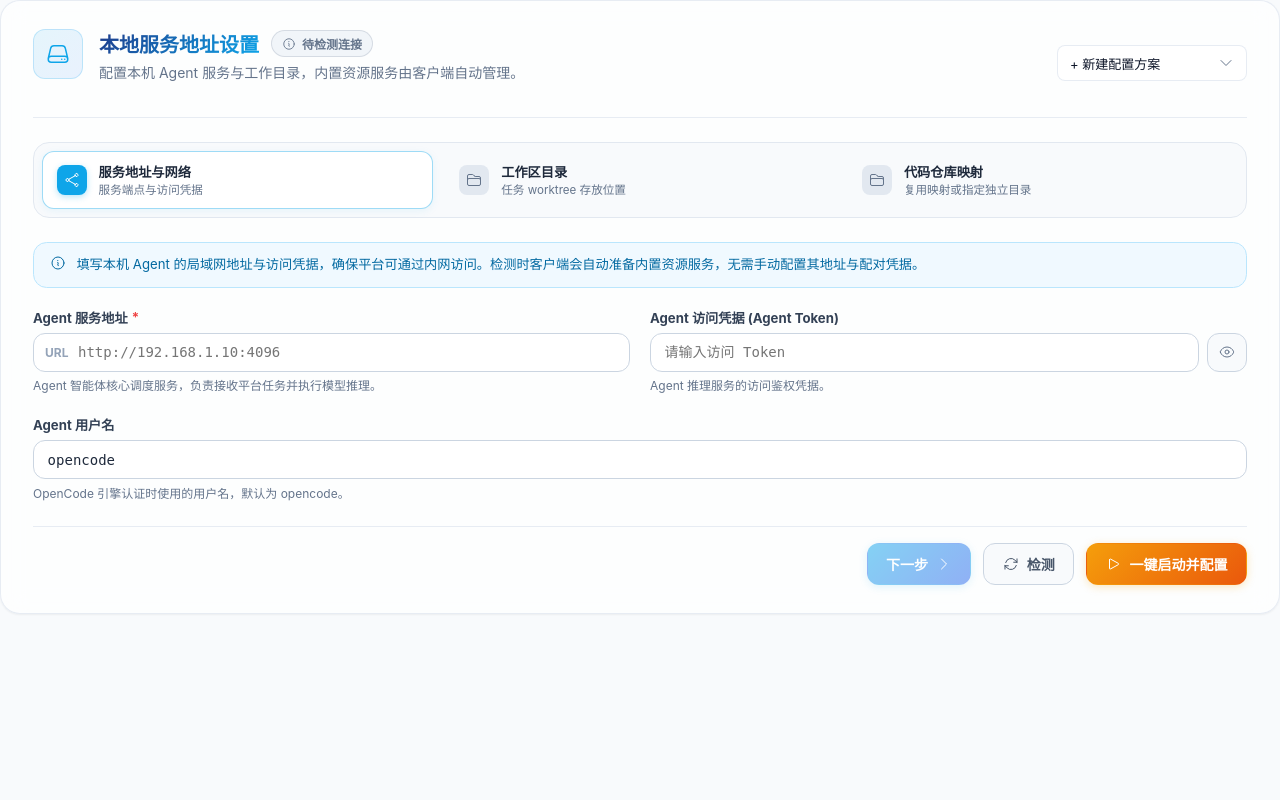
it: LocalServiceForm Component (Scheme 2: Stepper Flow with BaseSelect) › checks unsaved addresses without saving or requiring directories
Type "http://10.0.0.2:4096" into the field with id "service-url" at [332, 352], box left=33, top=333, right=630, bottom=372
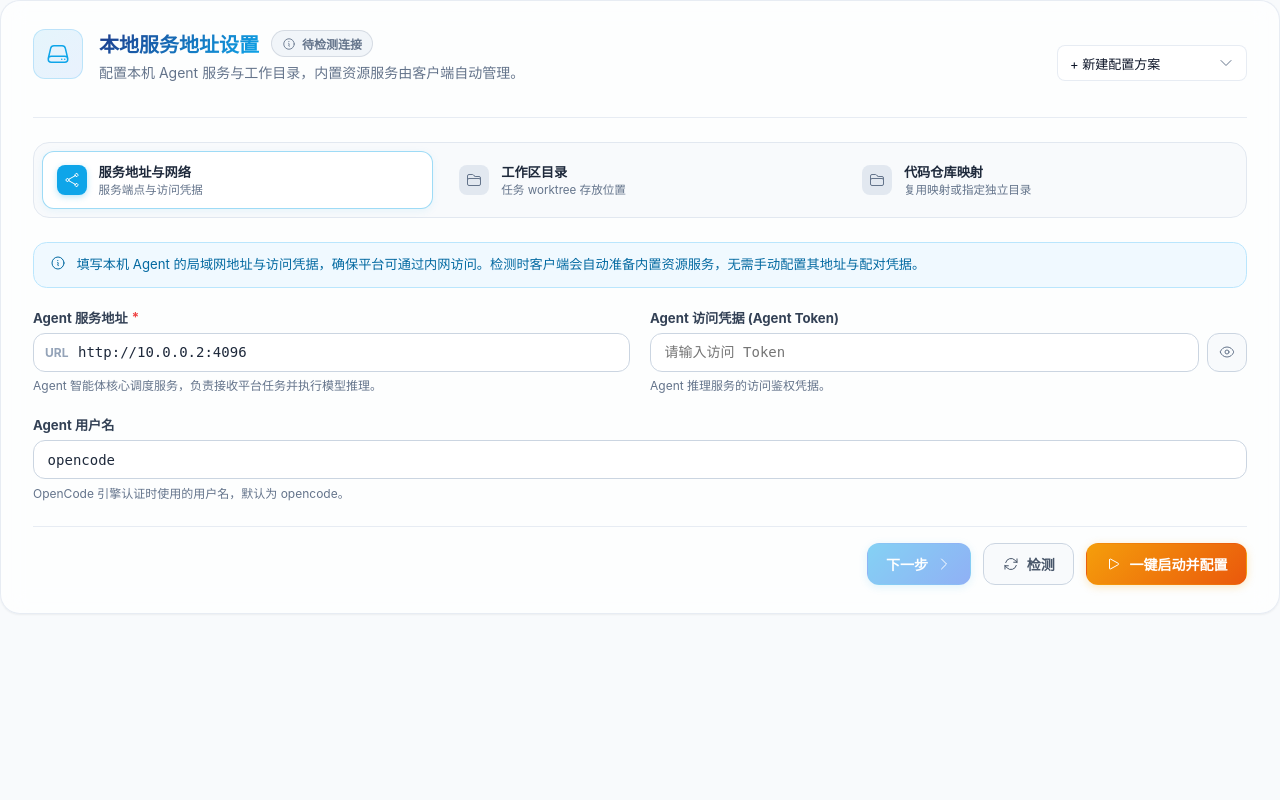
Type "manual-agent-token" into the password field with id "agent-token" at [924, 352], box left=650, top=333, right=1199, bottom=372
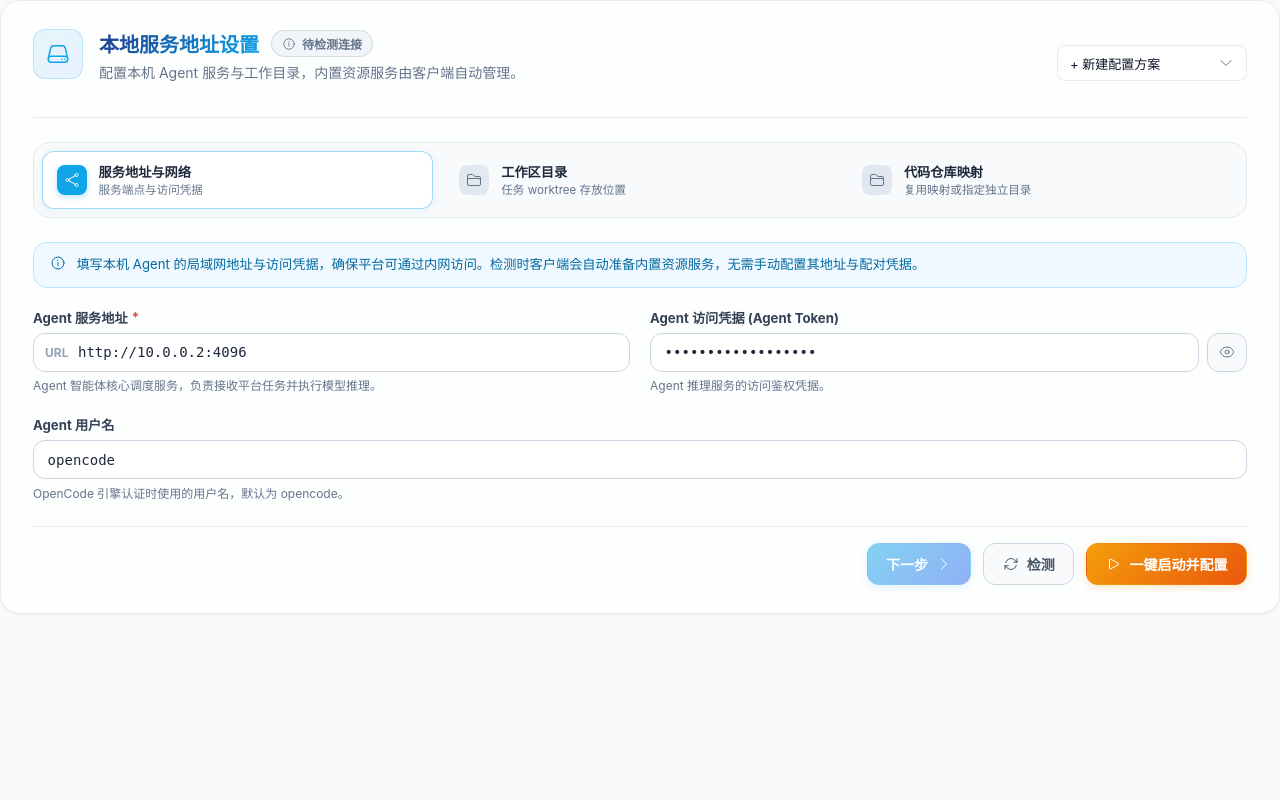
Replace the text in the field with id "agent-username" with "manual-user" at [640, 460], box left=33, top=440, right=1247, bottom=479
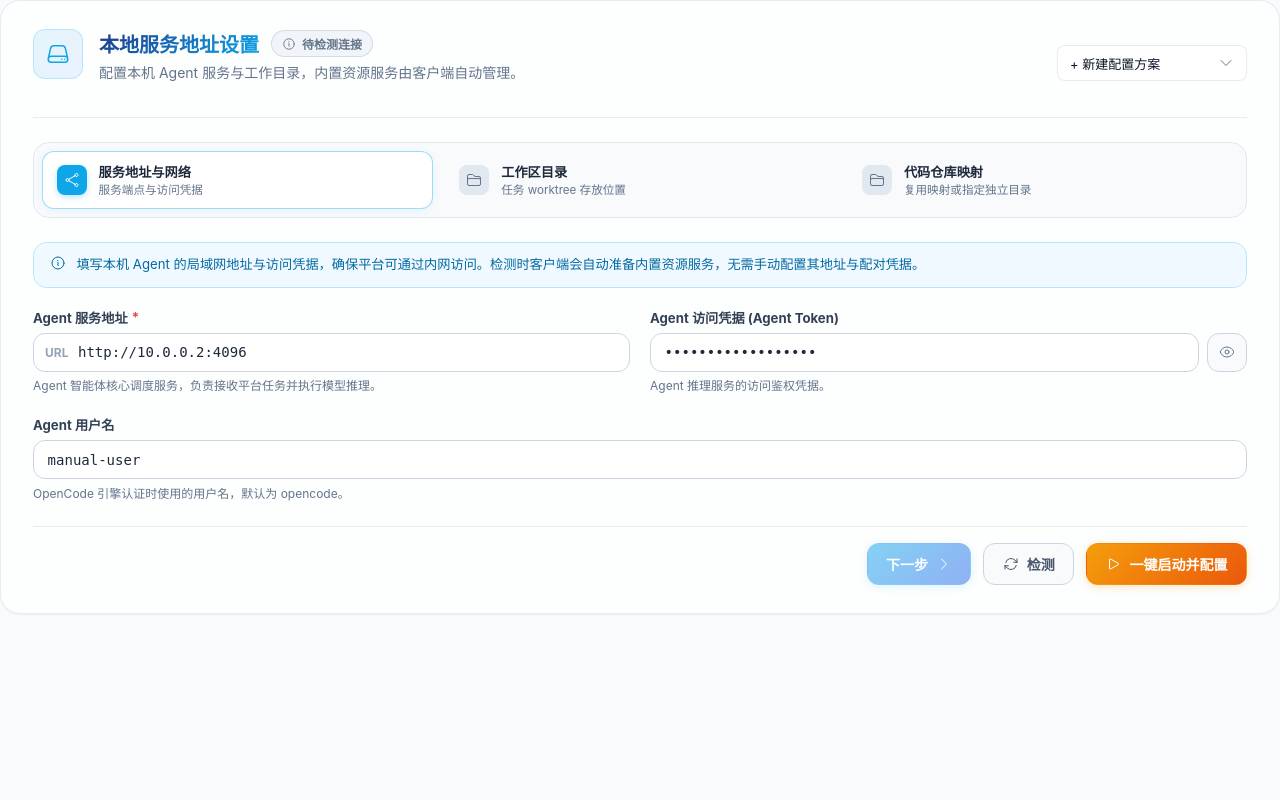
Click the button "检测" at [1029, 564], box left=983, top=543, right=1074, bottom=585
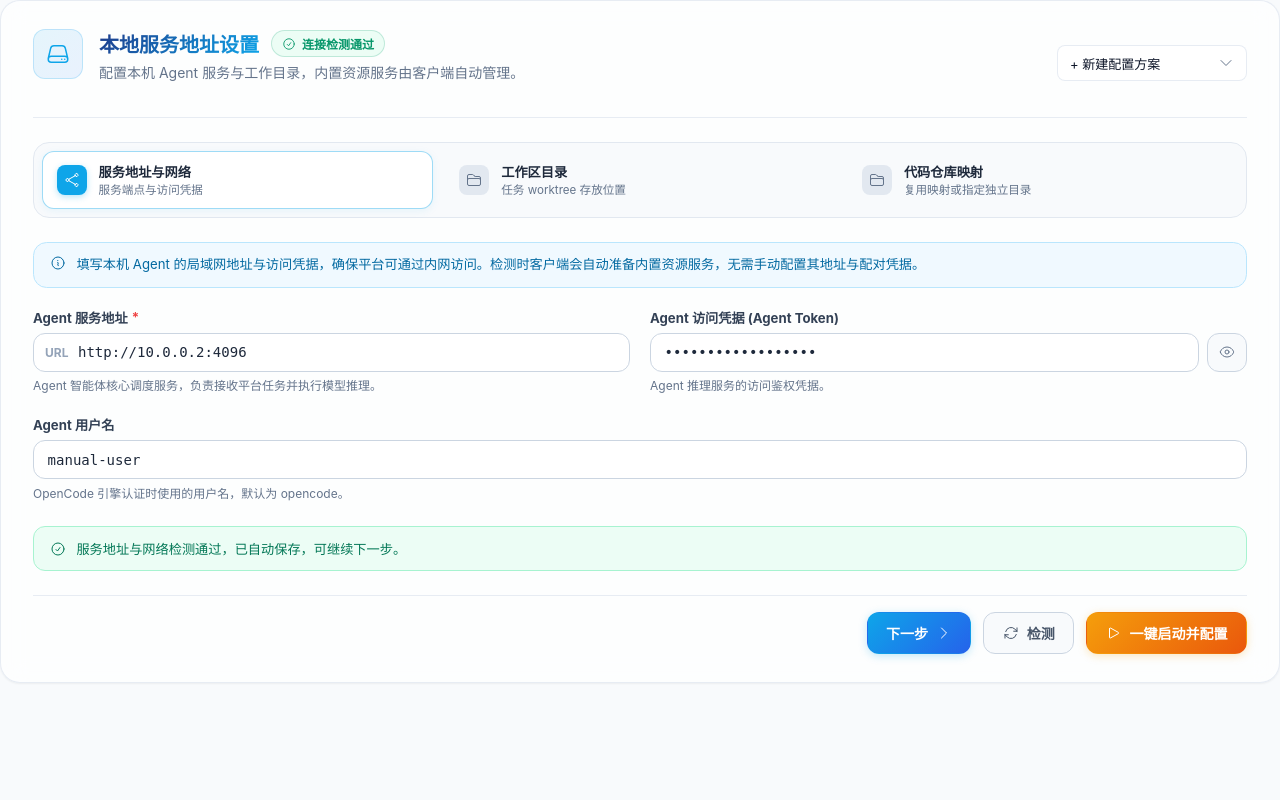
expect the text "服务地址与网络检测通过" is shown: met, box left=76, top=541, right=406, bottom=557
expect the message with class "status-badge" reads "连接检测通过": met, box left=302, top=37, right=374, bottom=52
Replace the text in the field with id "service-url" with "http://10.0.0.3:4096" at [332, 352], box left=33, top=333, right=630, bottom=372
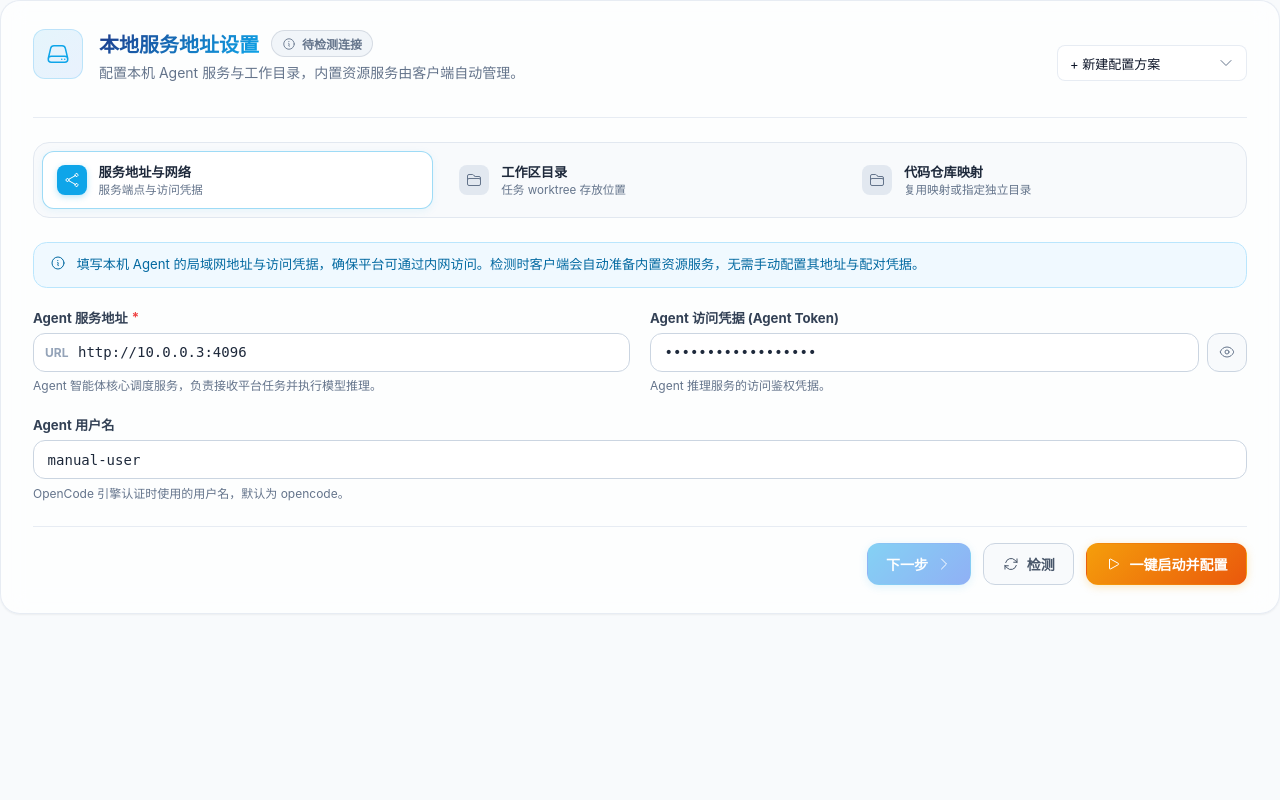
expect the button with class "stepper-item" showing "工作区目录 任务 worktree 存放位置" is disabled: met, box left=445, top=151, right=835, bottom=209
expect the text "服务地址与网络检测通过" is gone: met
expect the element with class "status-badge" reads "待检测连接": met, box left=302, top=37, right=362, bottom=52
